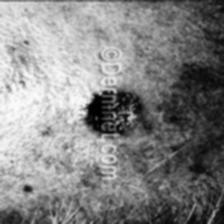Potentially Malignant Skin Tumors: (88, 94, 146, 129)
